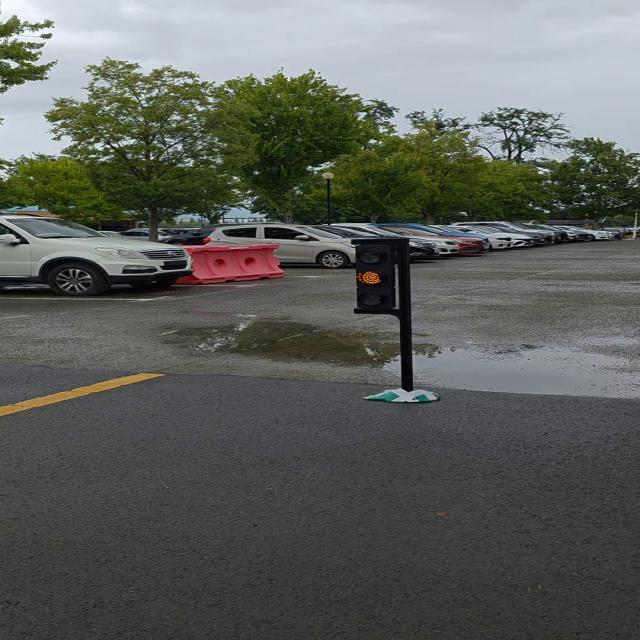yellow: (348, 245, 400, 314)
